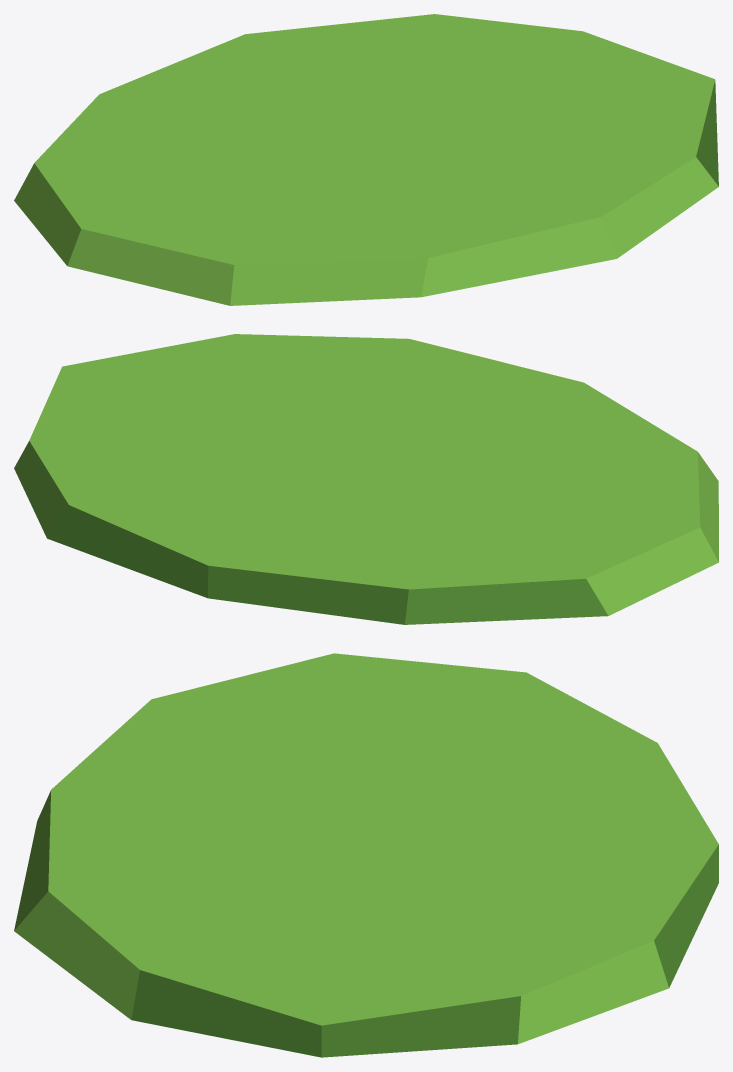
File: patch-grass.glb
3 views of the same model, one above another, from view 1: azimuth 30°, elevation 25°; view 2: azimuth 150°, elevation 25°; view 3: azimuth 270°, elevation 25° (orthographic). The views are drawn at different scales.
Visible parts, largest first — view 1: patch-grass; view 2: patch-grass; view 3: patch-grass.
Part boxes in pixels (box(x1,y1,x2,y2)): patch-grass: box(14, 14, 718, 305); patch-grass: box(14, 334, 718, 624); patch-grass: box(14, 653, 718, 1057).
Size of the model in its own units: 5.28 by 0.25 by 4.12.
Materials: 1 (1 with a texture image).
